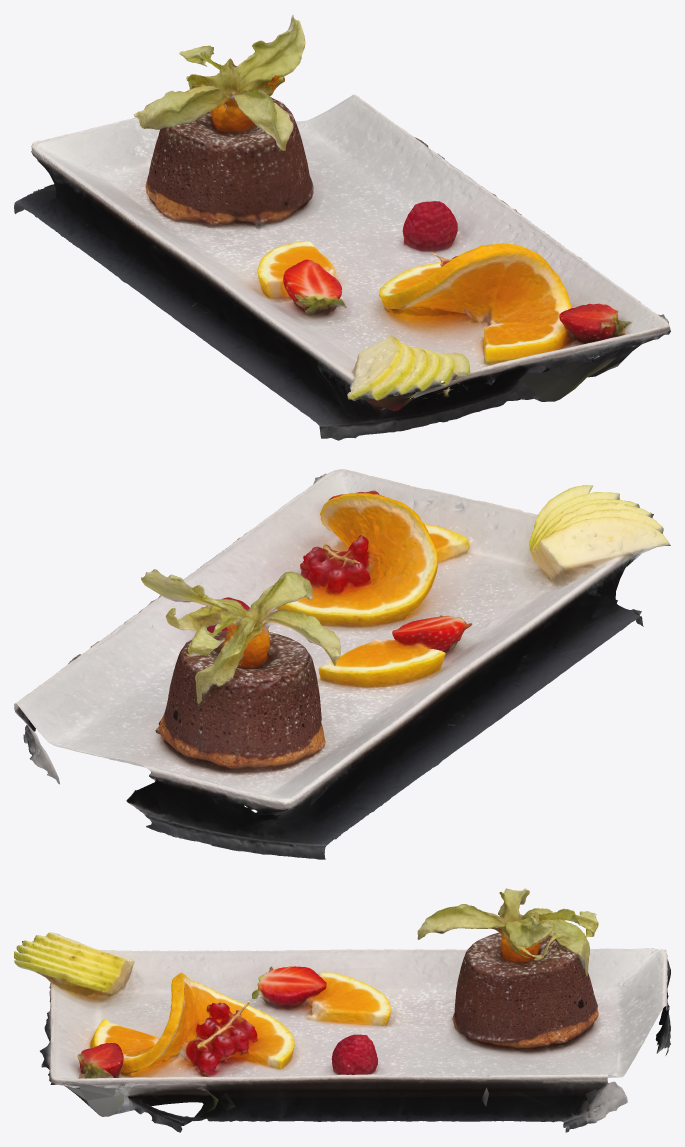
File: objet_webxr.glb
The picture shows the model from 3 angles, top to bottom: view 1: azimuth 30°, elevation 25°; view 2: azimuth 150°, elevation 25°; view 3: azimuth 270°, elevation 25°; orthographic projection. The views are drawn at different scales.
Visible parts, largest first — view 1: Mesh_0_Part_0; view 2: Mesh_0_Part_0; view 3: Mesh_0_Part_0.
Boxes of the visible parts, bbox=[...] form: Mesh_0_Part_0: bbox=[14, 15, 670, 440]; Mesh_0_Part_0: bbox=[14, 469, 670, 859]; Mesh_0_Part_0: bbox=[14, 888, 670, 1132].
Size of the model in its own units: 0.2298 by 0.1202 by 0.4378.
Materials: 1 (1 with a texture image).
